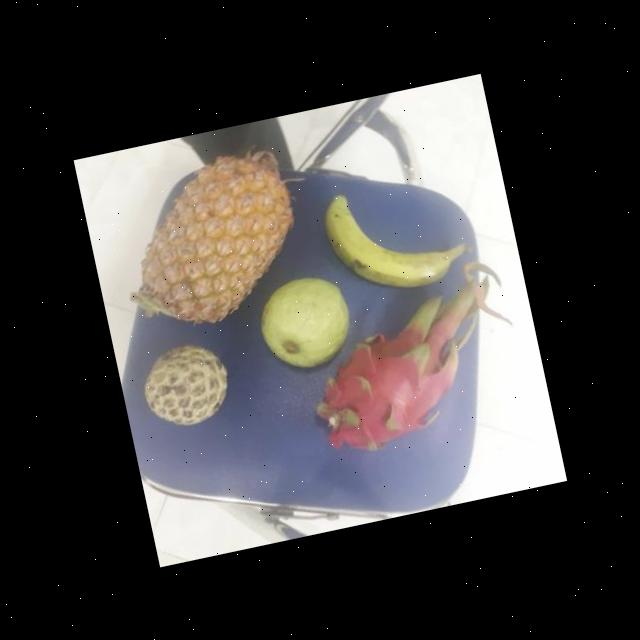Sakya fruit: (136, 336, 238, 434)
guava: (252, 272, 362, 377)
pineapple: (115, 143, 314, 334)
pitaya: (308, 313, 470, 461)
